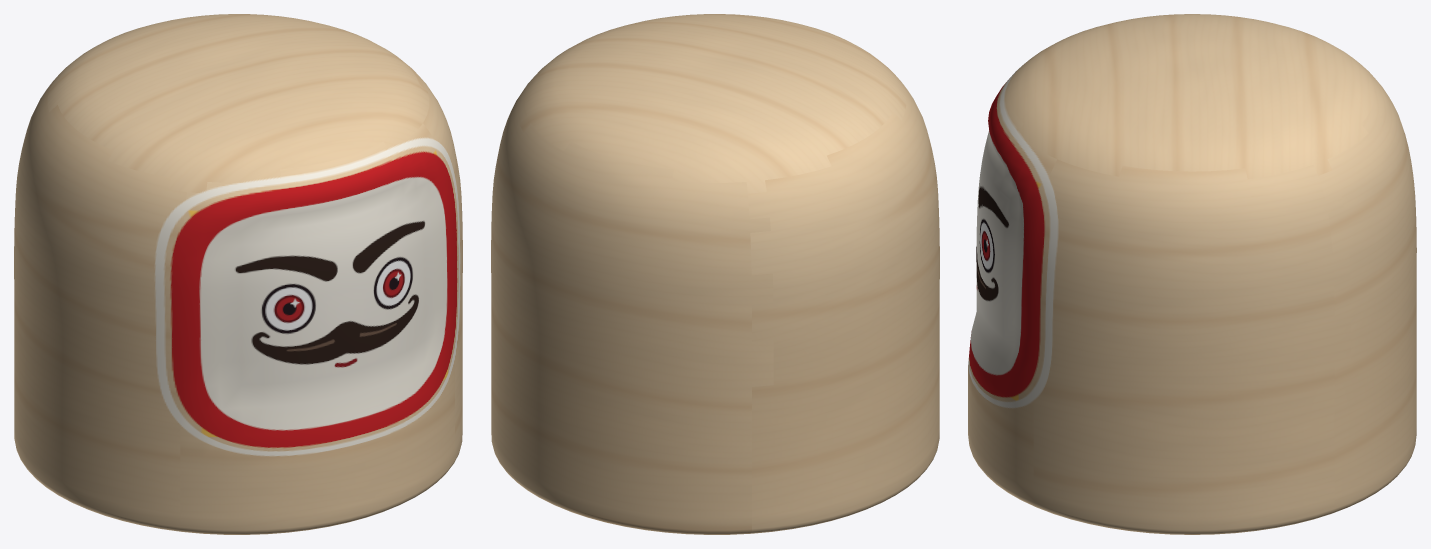
Rendered from daruking.fbx.
3 renders of one model, left to right at view 1: azimuth 30°, elevation 25°; view 2: azimuth 150°, elevation 25°; view 3: azimuth 270°, elevation 25°, orthographic.
Parts seen in each view (by area): view 1: daruking; view 2: daruking; view 3: daruking.
Part boxes in pixels (x1=…): daruking: x1=14, y1=14, x2=462, y2=534; daruking: x1=491, y1=14, x2=939, y2=534; daruking: x1=968, y1=14, x2=1416, y2=534.
Bounding box in the file's own units: 1 × 0.9425 × 1.
Materials: 1 (1 with a texture image).
